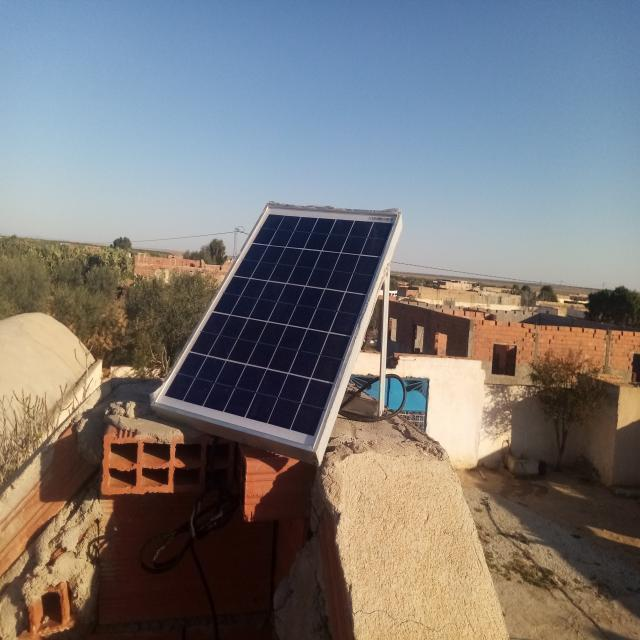Normal Solar Panel: (157, 205, 398, 449)
